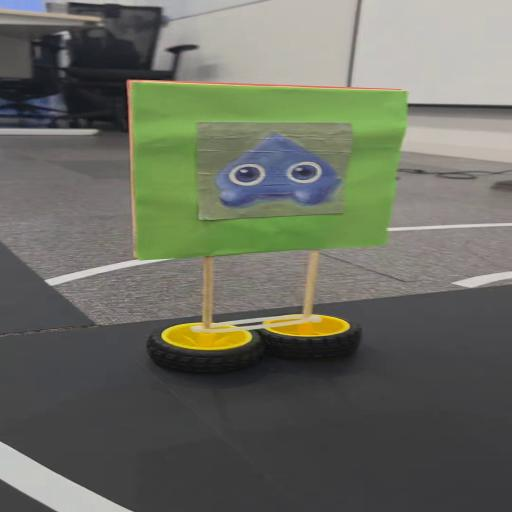Sign_B: (118, 72, 408, 371)
